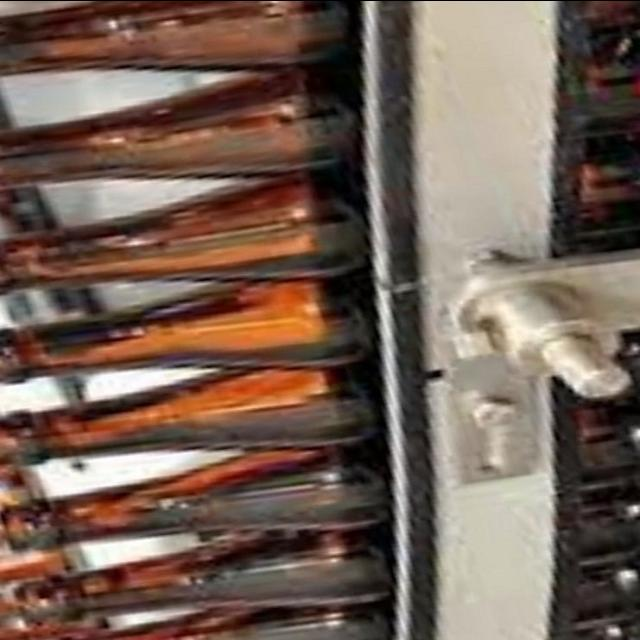bottle: (1, 167, 370, 296), (1, 274, 377, 386), (0, 447, 396, 553), (0, 381, 389, 484)
food: (1, 3, 401, 639)
